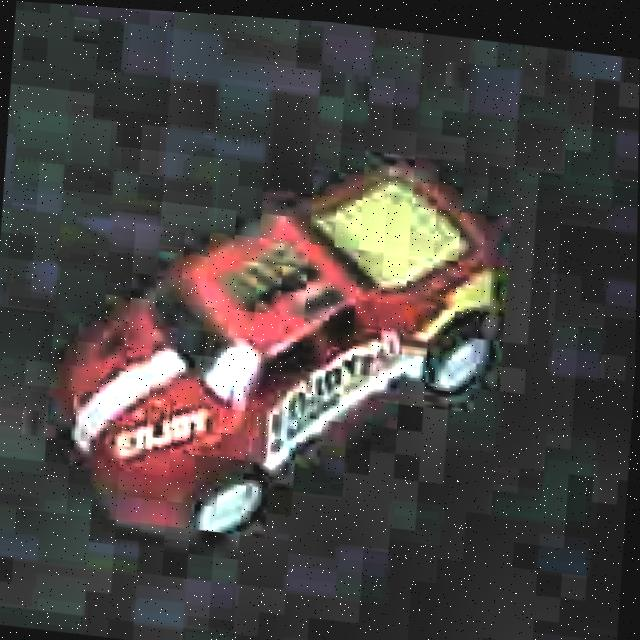car: (47, 118, 522, 581)
